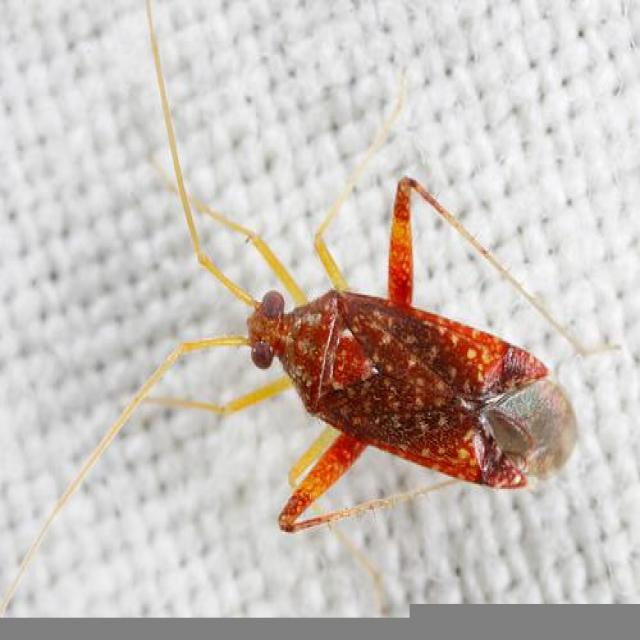Miridae-Adult-: (107, 13, 619, 543)
